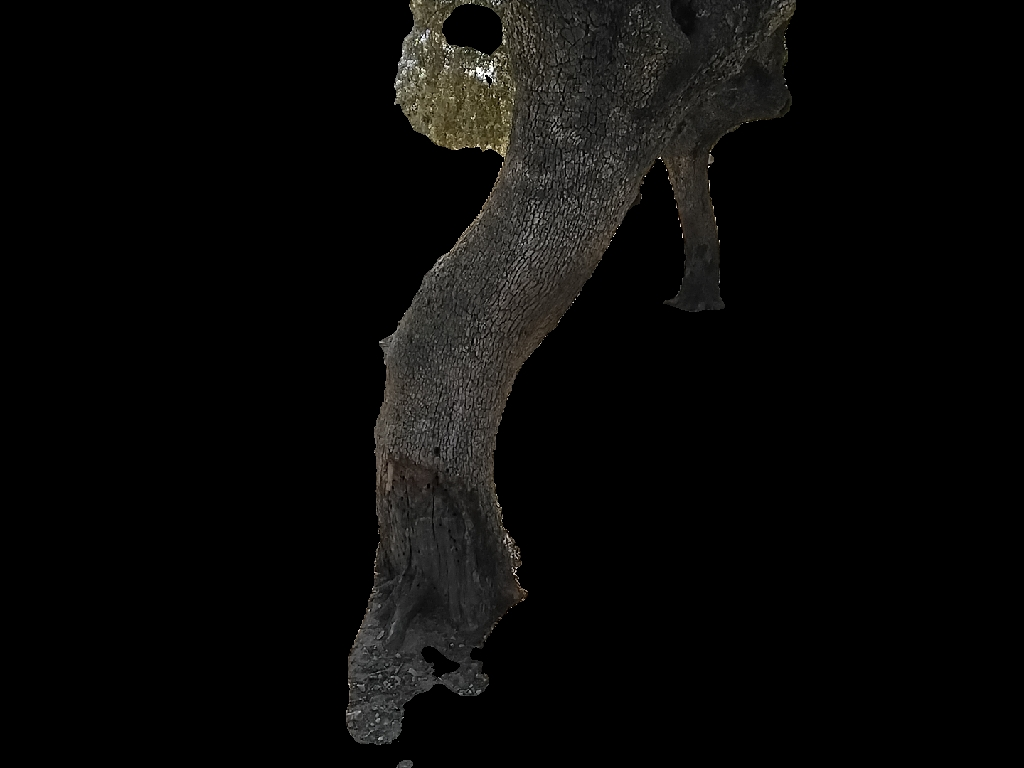Cut: (432, 497, 435, 540), (409, 536, 412, 566), (407, 494, 409, 507)
Hole: (433, 446, 440, 456), (427, 484, 430, 489), (452, 513, 457, 516), (448, 529, 451, 533), (453, 539, 456, 543), (402, 476, 405, 480), (401, 497, 404, 501), (407, 512, 409, 517), (439, 523, 442, 526), (392, 485, 394, 489), (390, 505, 392, 509), (455, 548, 457, 551), (418, 550, 420, 553), (444, 489, 447, 491)
Injure: (365, 452, 522, 652)
